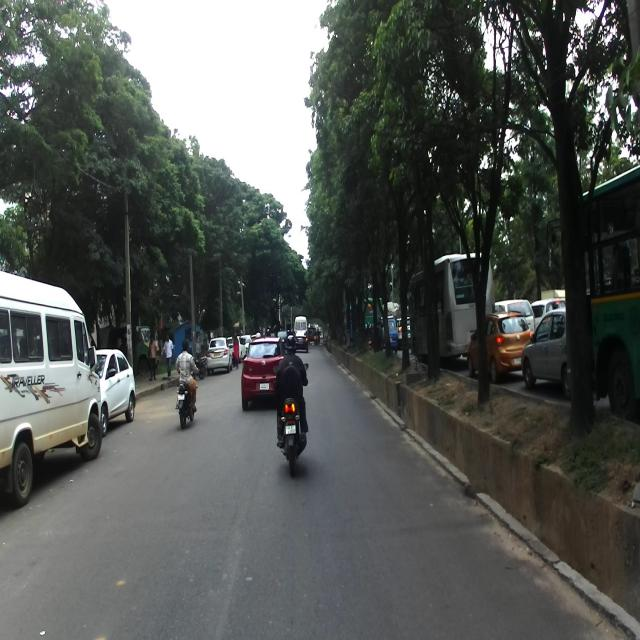Car_Hyundai: (467, 308, 532, 384)
mini-bus: (0, 269, 103, 509)
motorcycle: (272, 362, 308, 475)
motorcycle_bajaj: (175, 368, 199, 428)
